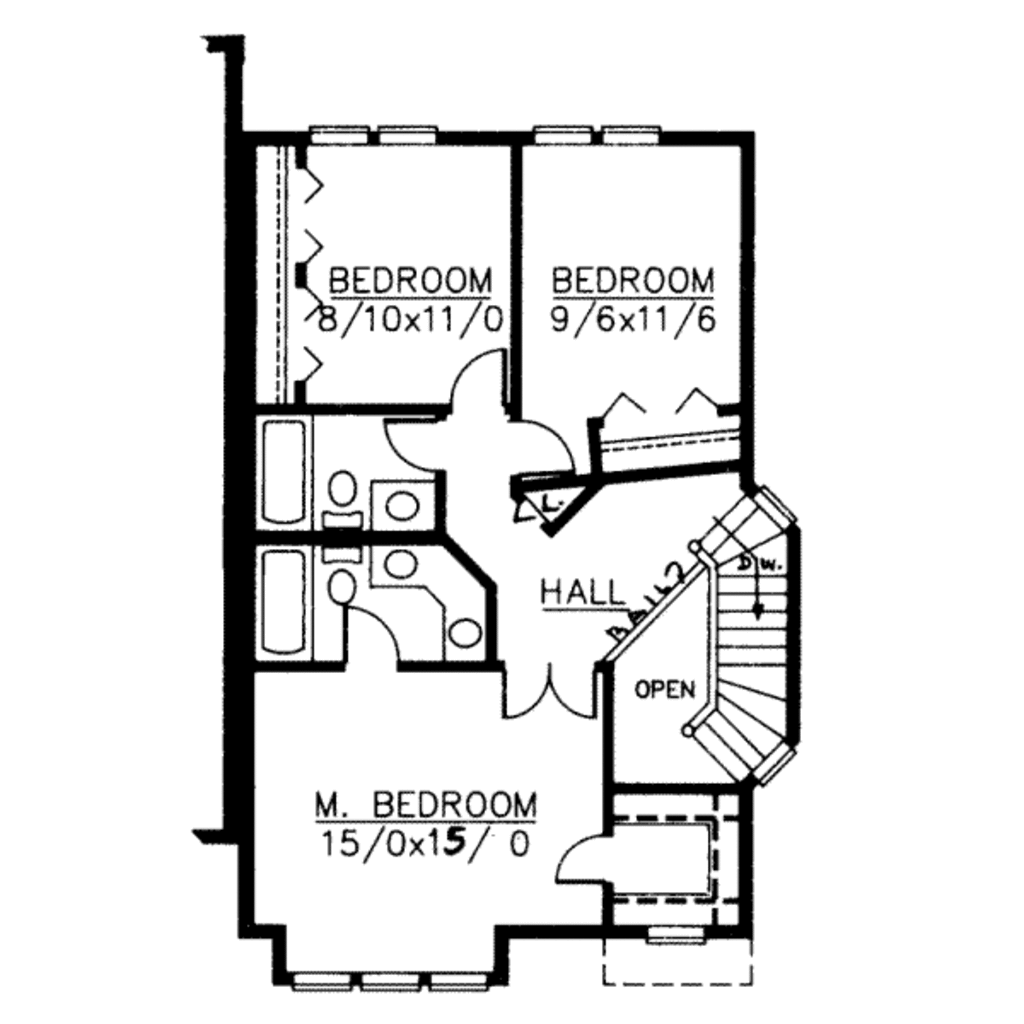door: (498, 649, 600, 722), (508, 411, 586, 483), (384, 414, 463, 478), (448, 339, 514, 413), (338, 599, 394, 669), (556, 830, 608, 888)
large_sink: (325, 542, 372, 616), (323, 453, 367, 527)
small_sink: (378, 546, 495, 660), (373, 472, 441, 535)
stairs: (678, 483, 833, 789)
tub: (253, 408, 314, 533), (259, 538, 314, 663)
window: (606, 121, 669, 157), (645, 921, 717, 950), (309, 122, 377, 149), (533, 121, 600, 147), (294, 964, 353, 992), (364, 967, 425, 994), (384, 127, 447, 152), (430, 966, 483, 994)
